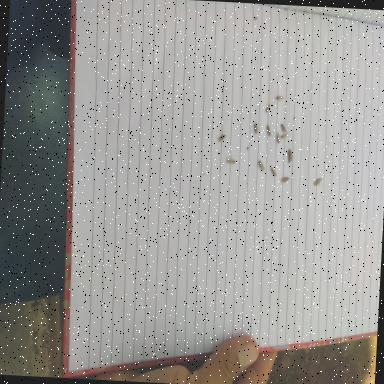pbw: (286, 148, 292, 162), (217, 134, 226, 142), (313, 177, 321, 186), (258, 160, 265, 170), (280, 123, 287, 133), (280, 176, 289, 183), (266, 124, 271, 136), (270, 166, 276, 176), (226, 158, 235, 164), (280, 132, 288, 138), (254, 122, 258, 133), (276, 132, 280, 142), (266, 103, 270, 112), (276, 95, 284, 99)
